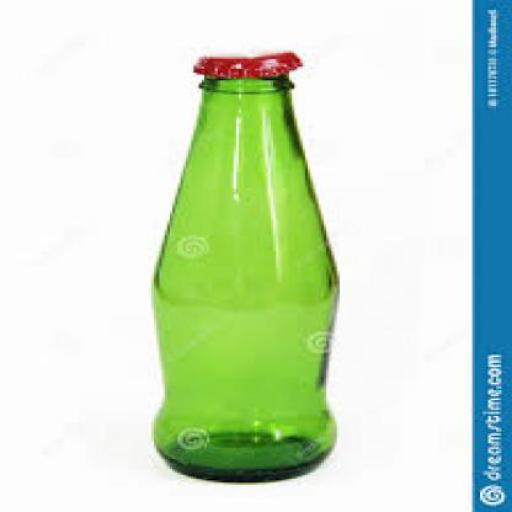glass: (148, 76, 334, 482)
metal: (191, 46, 294, 72)
